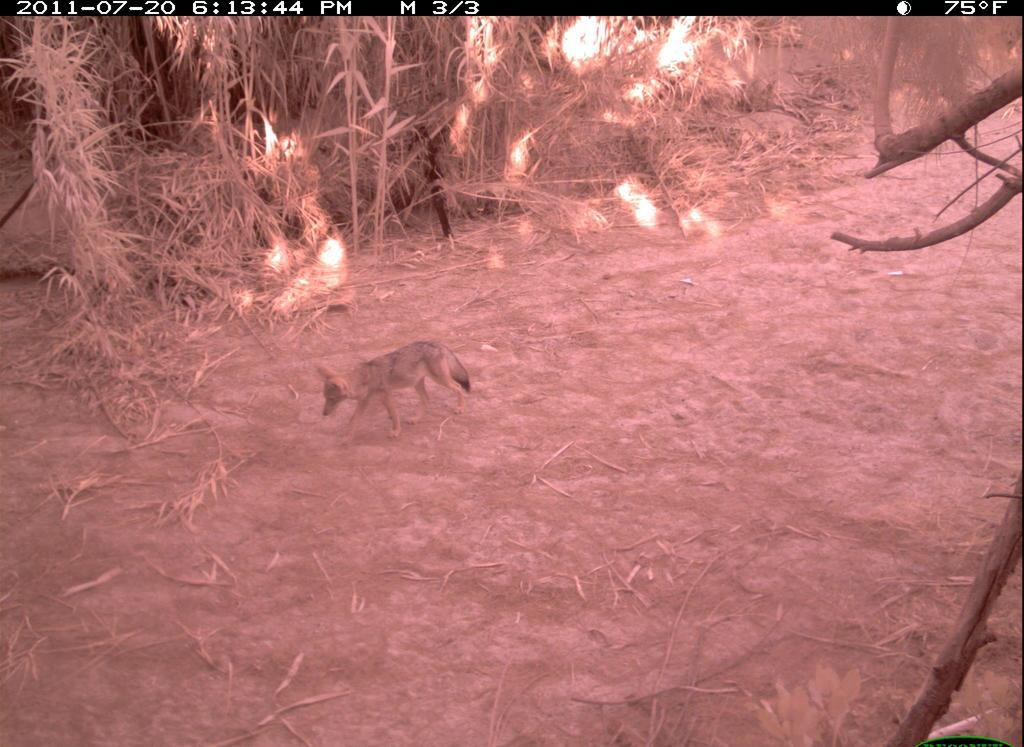coyote: (310, 332, 475, 446)
